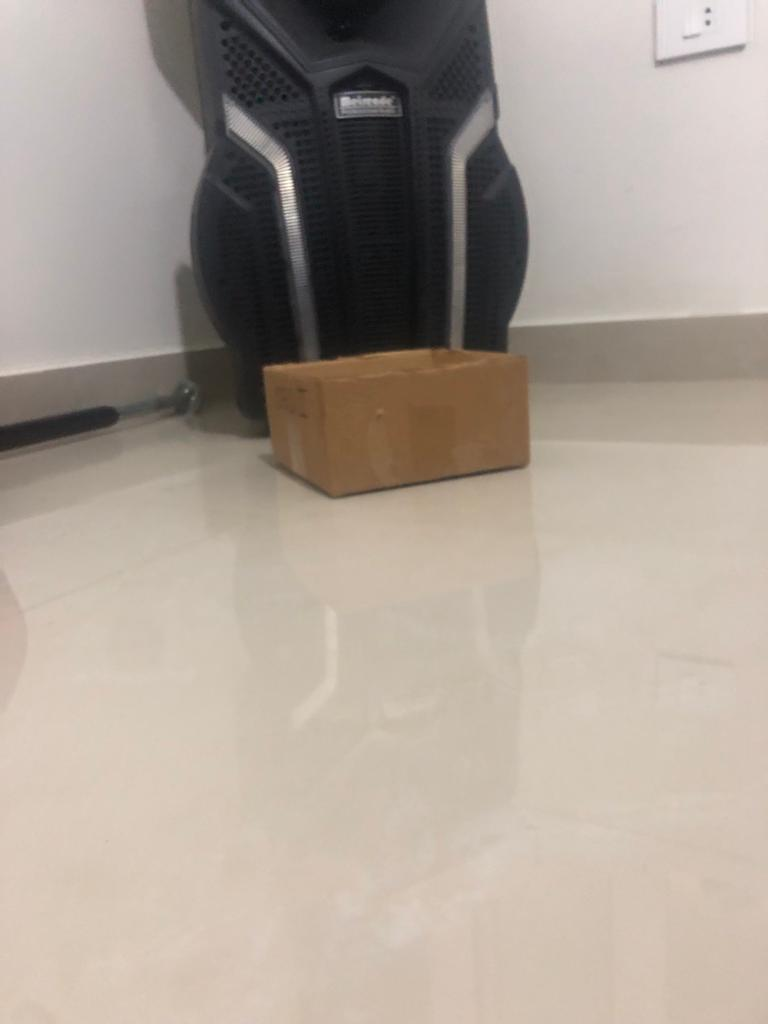CBox: (255, 336, 541, 499)
